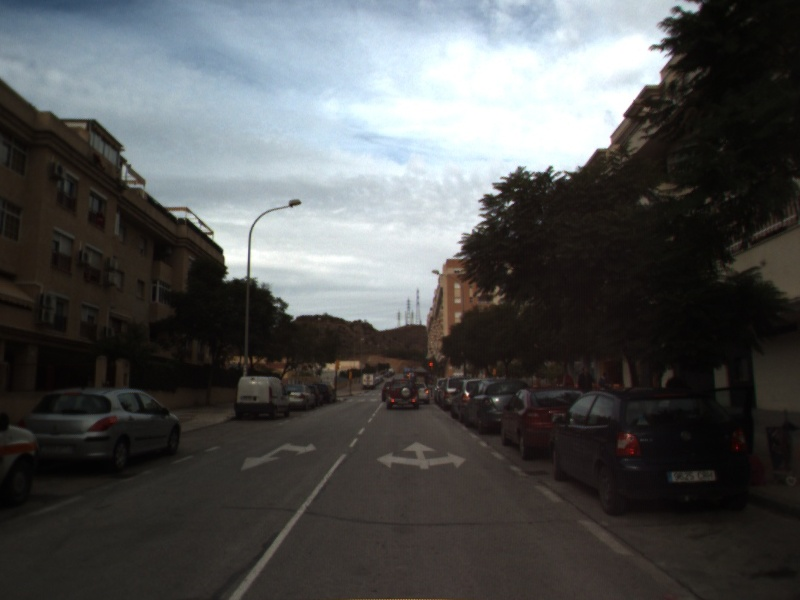STRAIGHT_LEFT_RIGHT: (375, 439, 469, 471)
